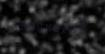five: (80, 21, 88, 36), (53, 20, 61, 34)
four: (44, 19, 52, 33)
nine: (17, 17, 25, 32)
six: (71, 21, 79, 35)
two: (62, 20, 70, 35)
zero: (35, 18, 43, 33), (26, 18, 34, 32)
